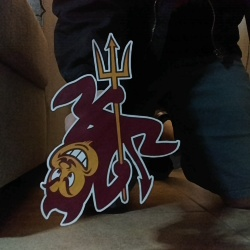sparky: (39, 31, 180, 225)
